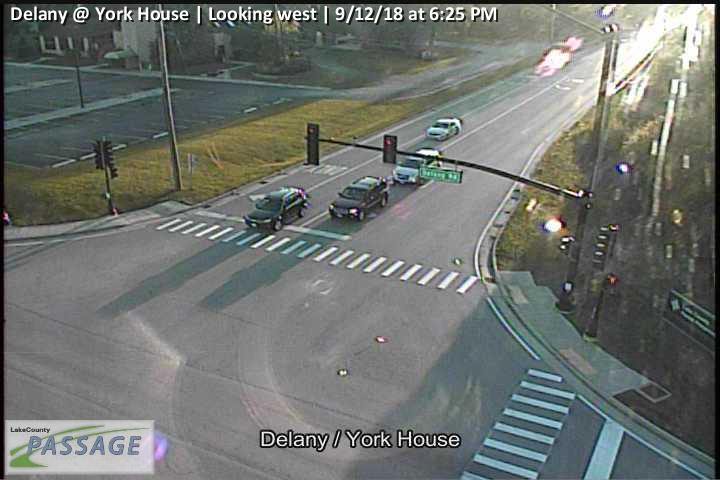SUV: (240, 186, 308, 231), (328, 176, 389, 220), (392, 149, 442, 185)
Sedan: (425, 117, 462, 141)
